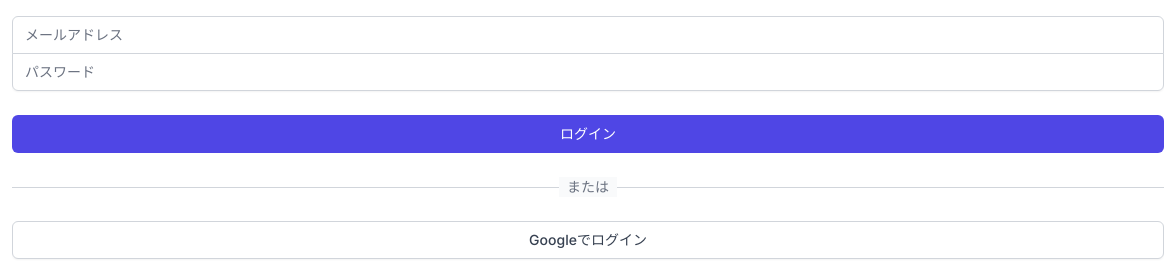
Test case: LoginForm › disables form during submission
In the field labelled "メールアドレス": (588, 35) [12,16,1164,54], type "test@example.com"
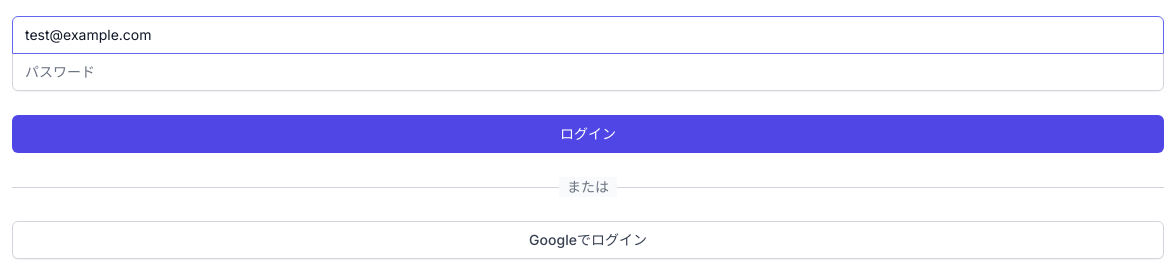
In the password field labelled "パスワード": (588, 72) [12,53,1164,91], type "password123"
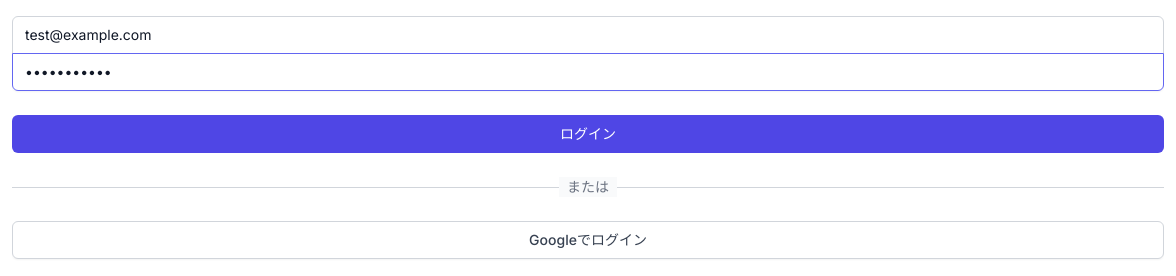
Click the button "ログイン": click(588, 134) [12,115,1164,153]
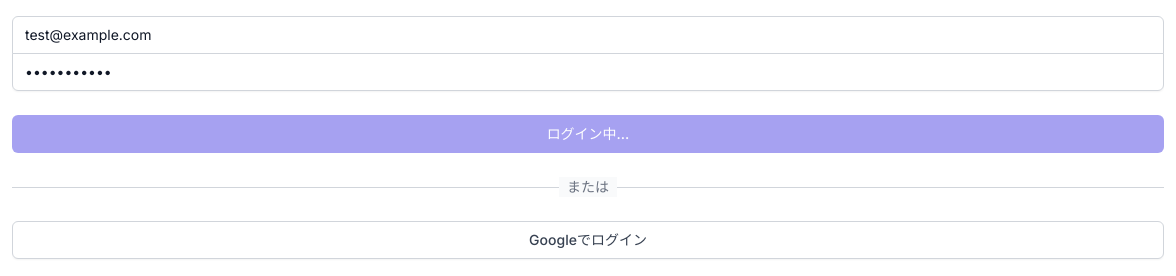
Check: the button "ログイン中..." is disabled, box [12,115,1164,153]
Check: the button "ログイン中..." is shown, box [12,115,1164,153]
